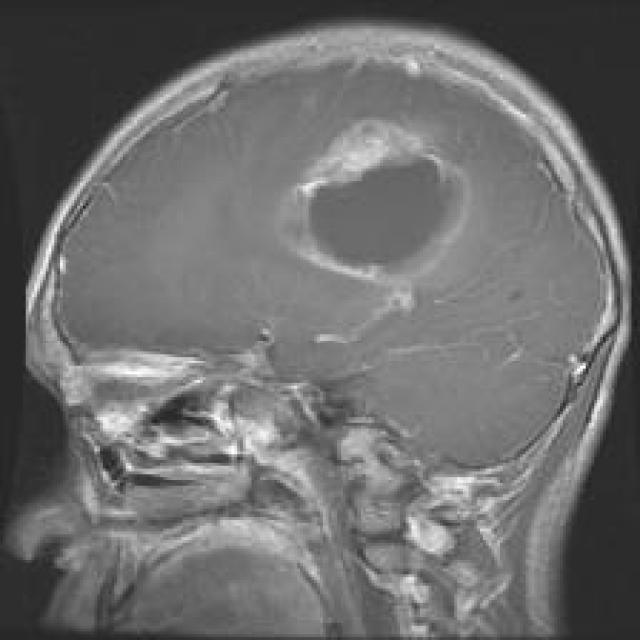glioma_tumor: (263, 112, 476, 306)
